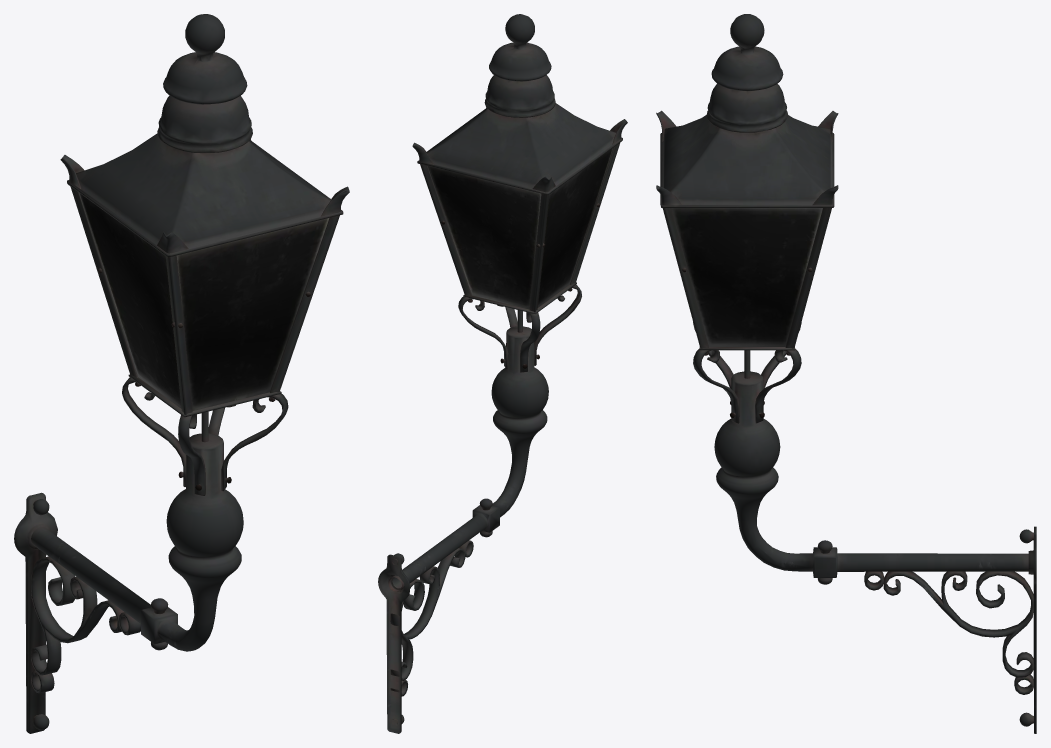
File: street_lamp_02.glb
The picture shows the model from 3 angles, left to right: view 1: azimuth 30°, elevation 25°; view 2: azimuth 150°, elevation 25°; view 3: azimuth 270°, elevation 25°; orthographic projection. The views are drawn at different scales.
Visible parts, largest first — view 1: street_lamp_02; view 2: street_lamp_02; view 3: street_lamp_02.
Part boxes in pixels (x1,y1,x2,y2): street_lamp_02: [14, 14, 349, 733]; street_lamp_02: [378, 14, 627, 733]; street_lamp_02: [656, 14, 1036, 733].
Bounding box in the file's own units: 0.3864 × 1.67 × 0.8067.
2 materials, 2 textured.
